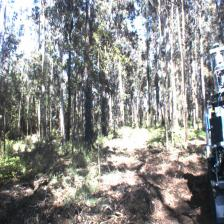trunktrack_idkeyframe: (84, 91, 93, 137)
